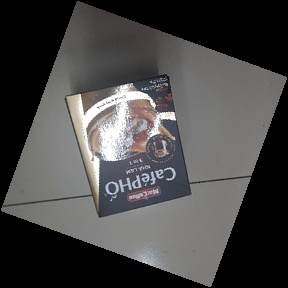CF pho: (63, 72, 194, 219)
